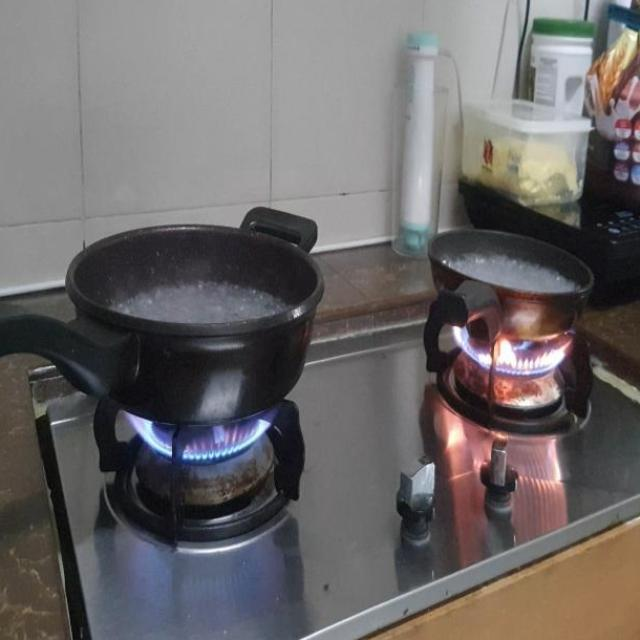smoke: (118, 396, 281, 464), (436, 325, 582, 372)
